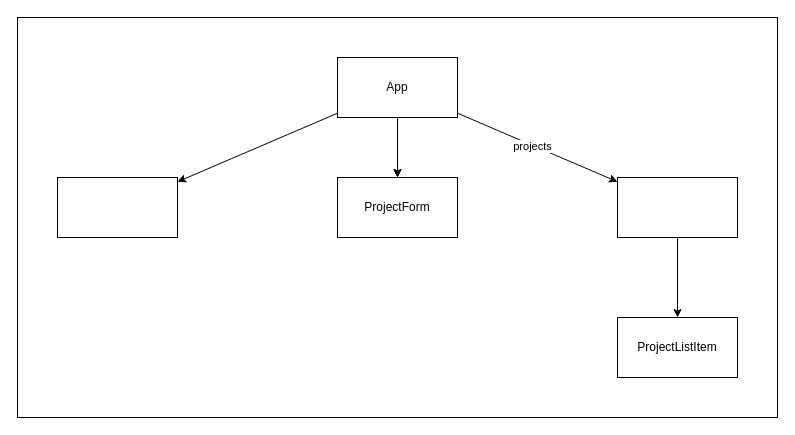
The diagram is 795 pixels wide and 435 high, and some of its shapes have lost their labels. The centre of each missing label's shape, as x and y in pixels:
"Header" belongs at point 117,207.
"ProjectList" belongs at point 677,207.
